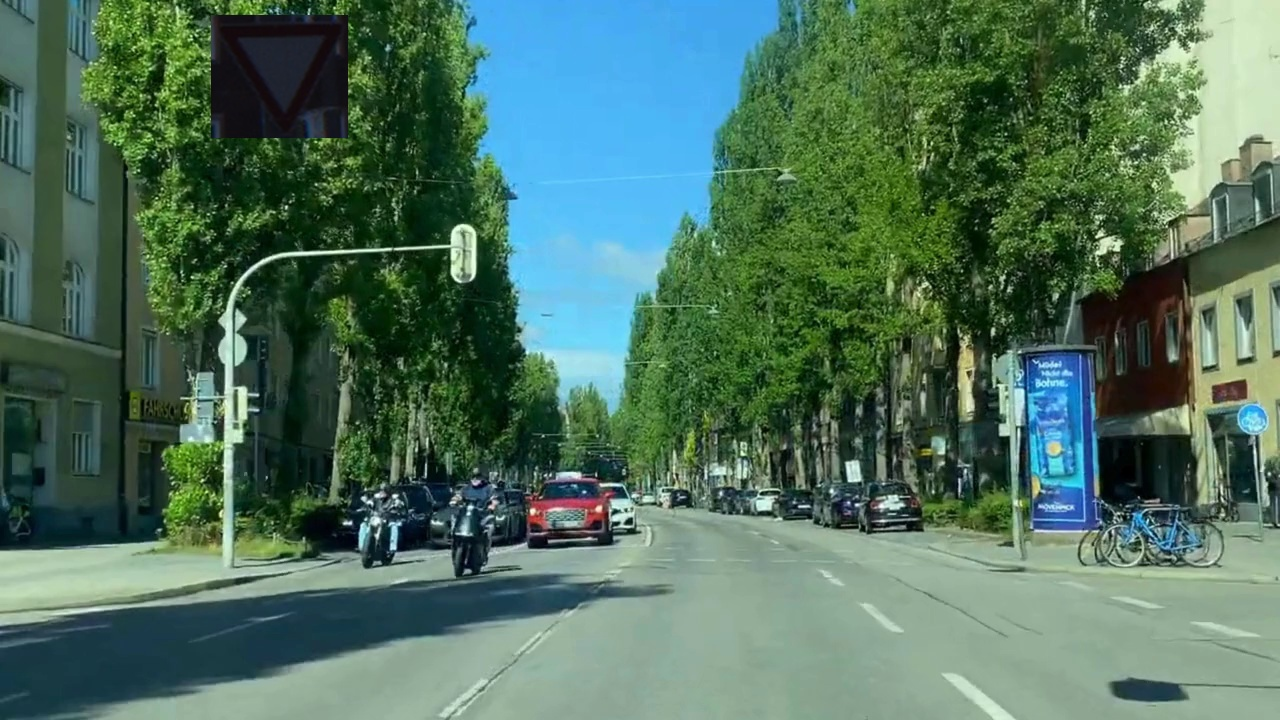Yield: (211, 15, 348, 138)
